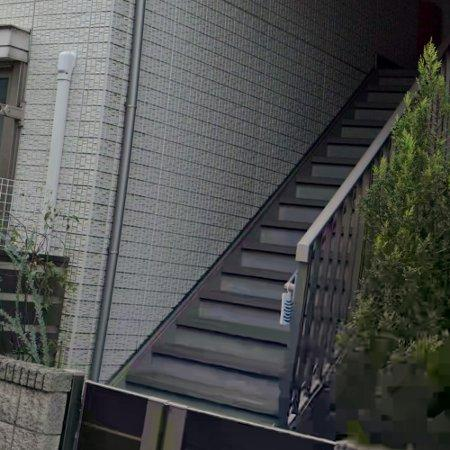stairs: (112, 67, 415, 440)
